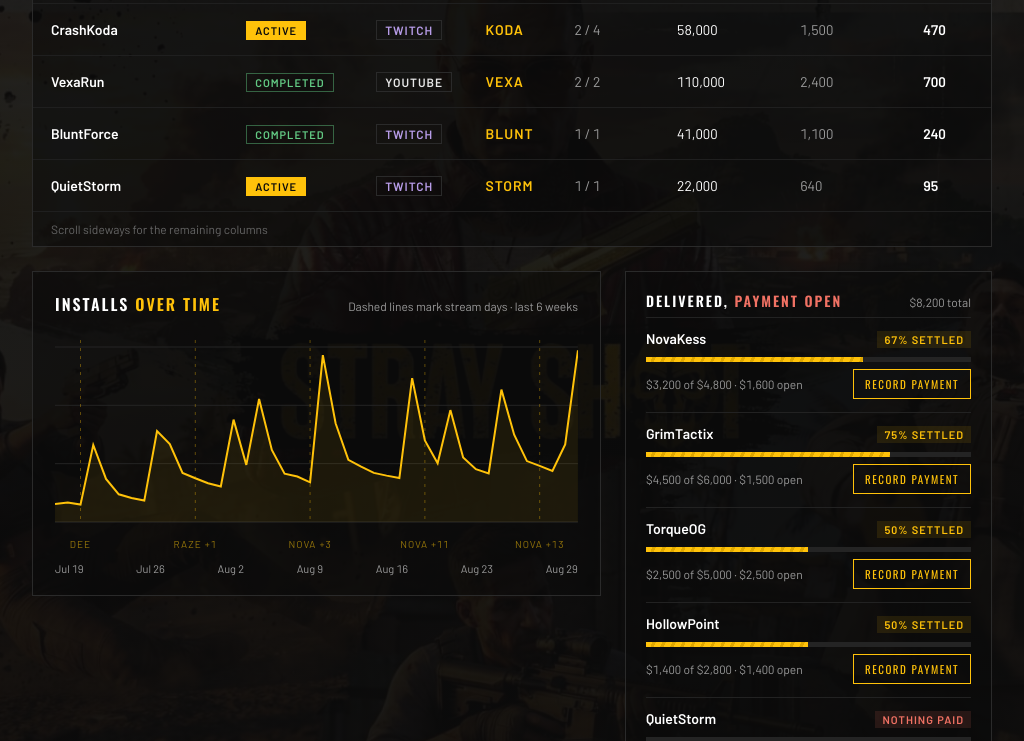
it: recording a payment › keeps exact cents rather than rounding them away
(page scrolled)
Click the button "Record payment" in the row of "$1,600": click(912, 384) [853, 369, 971, 399]
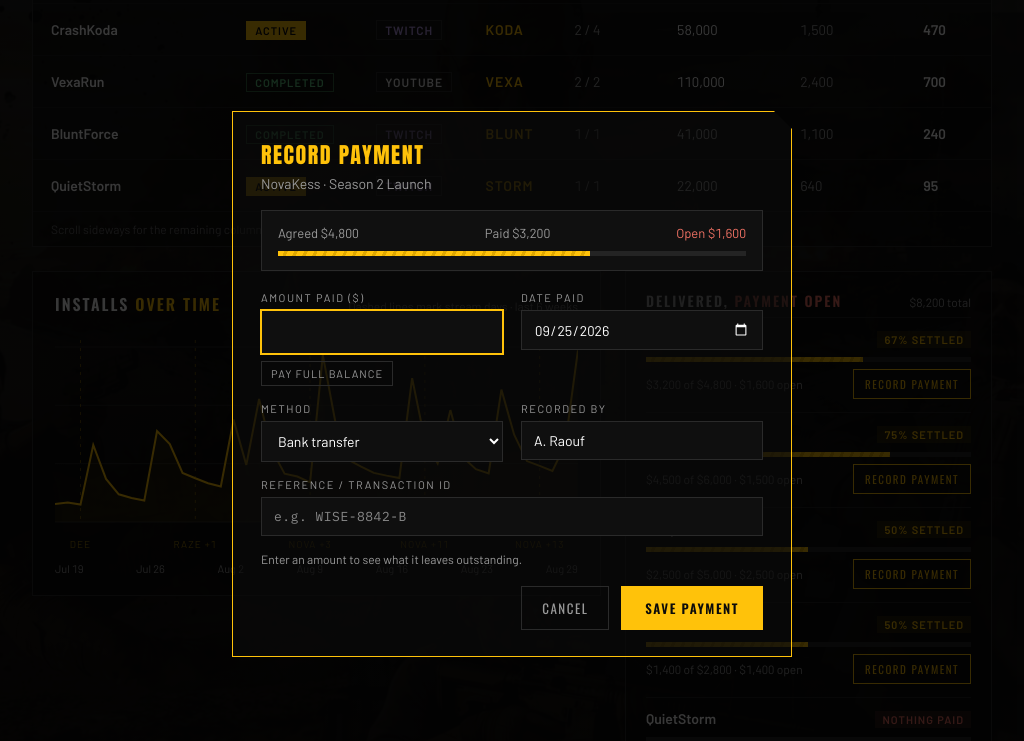
In the field named "Amount paid in dollars": (382, 332) [261, 310, 503, 354], type "100.49"
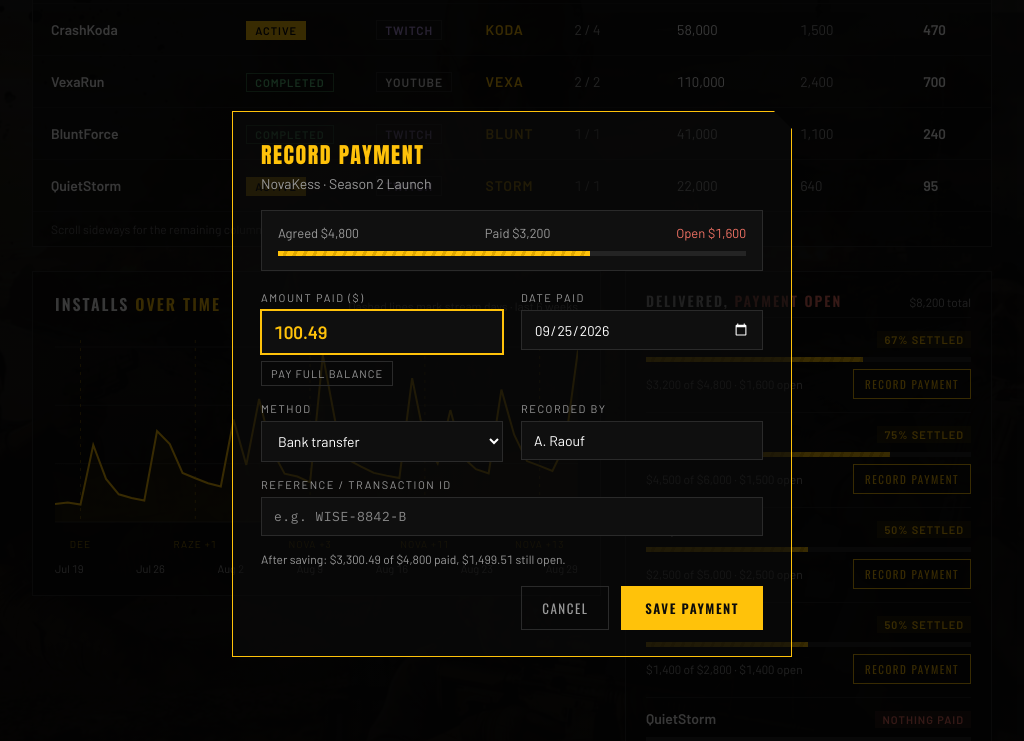
Click the button "Save payment": click(692, 608) [621, 586, 763, 630]
(page scrolled)
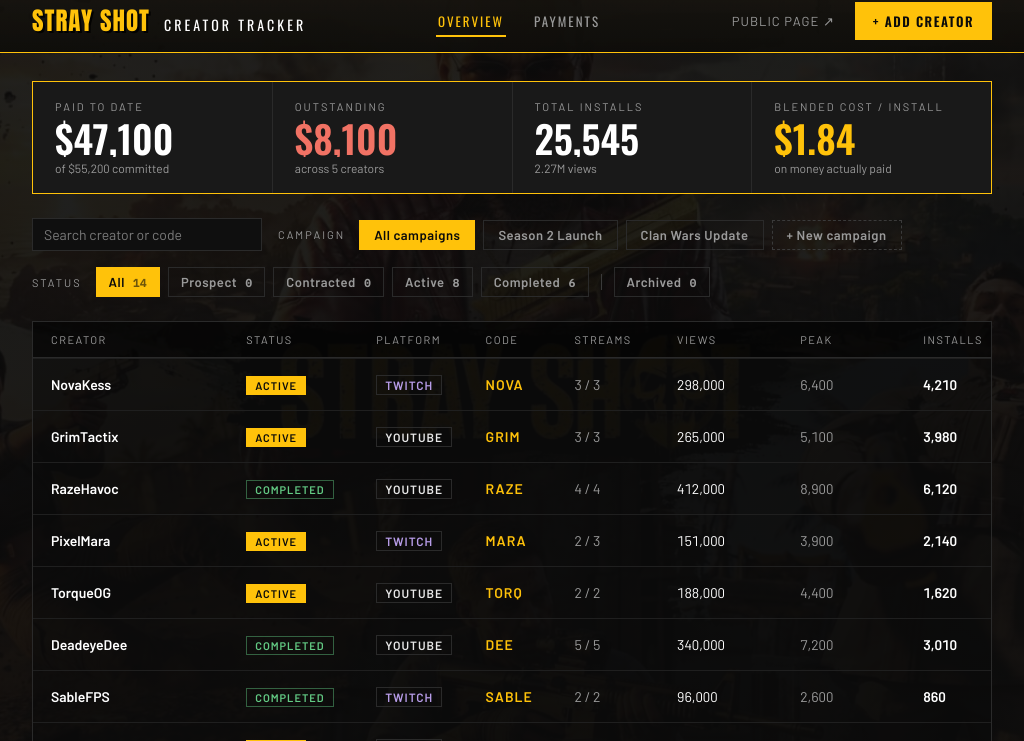
Check: the text "$47,100" is shown, box [55, 110, 173, 166]
Click the button "NovaKess": click(81, 384) [51, 376, 111, 393]
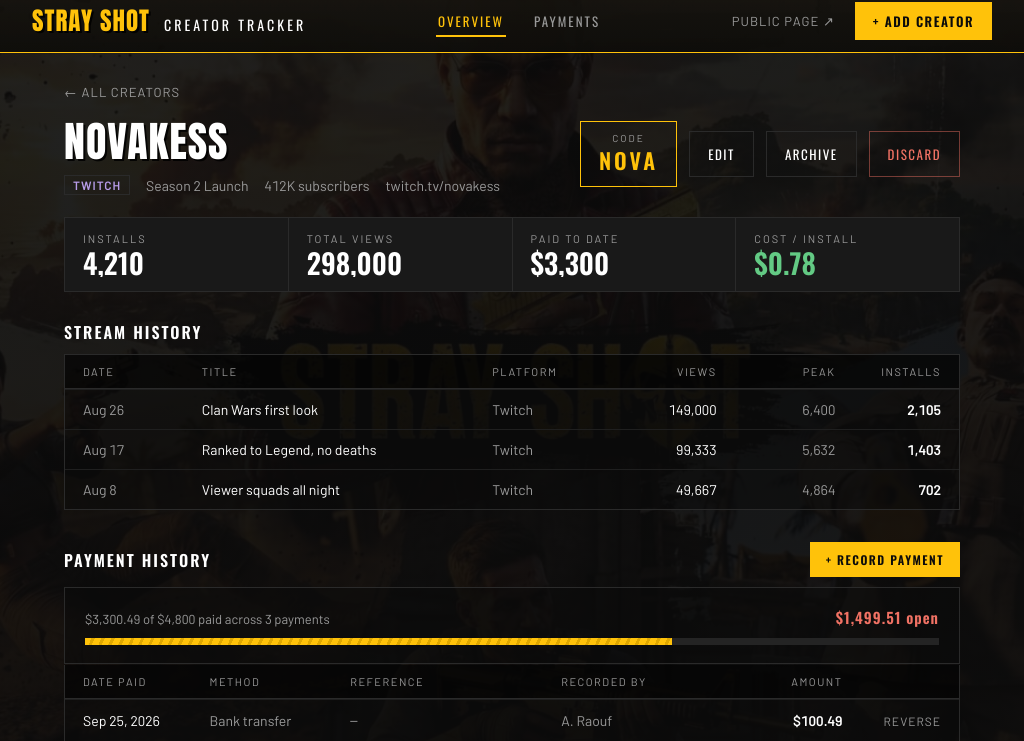
Check: the text "$100.49" is shown, box [793, 712, 842, 729]
Check: the text "$3,300.49 of $4,800 paid across 3 payments" is shown, box [85, 611, 330, 627]
